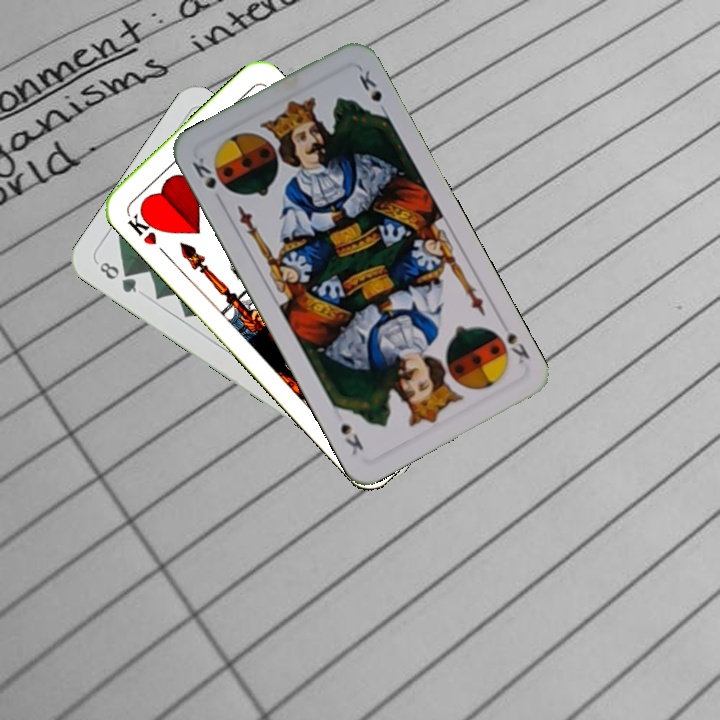G8: (94, 257, 139, 296)
HK: (123, 205, 163, 248)
SK: (188, 153, 219, 192), (503, 327, 532, 367)
